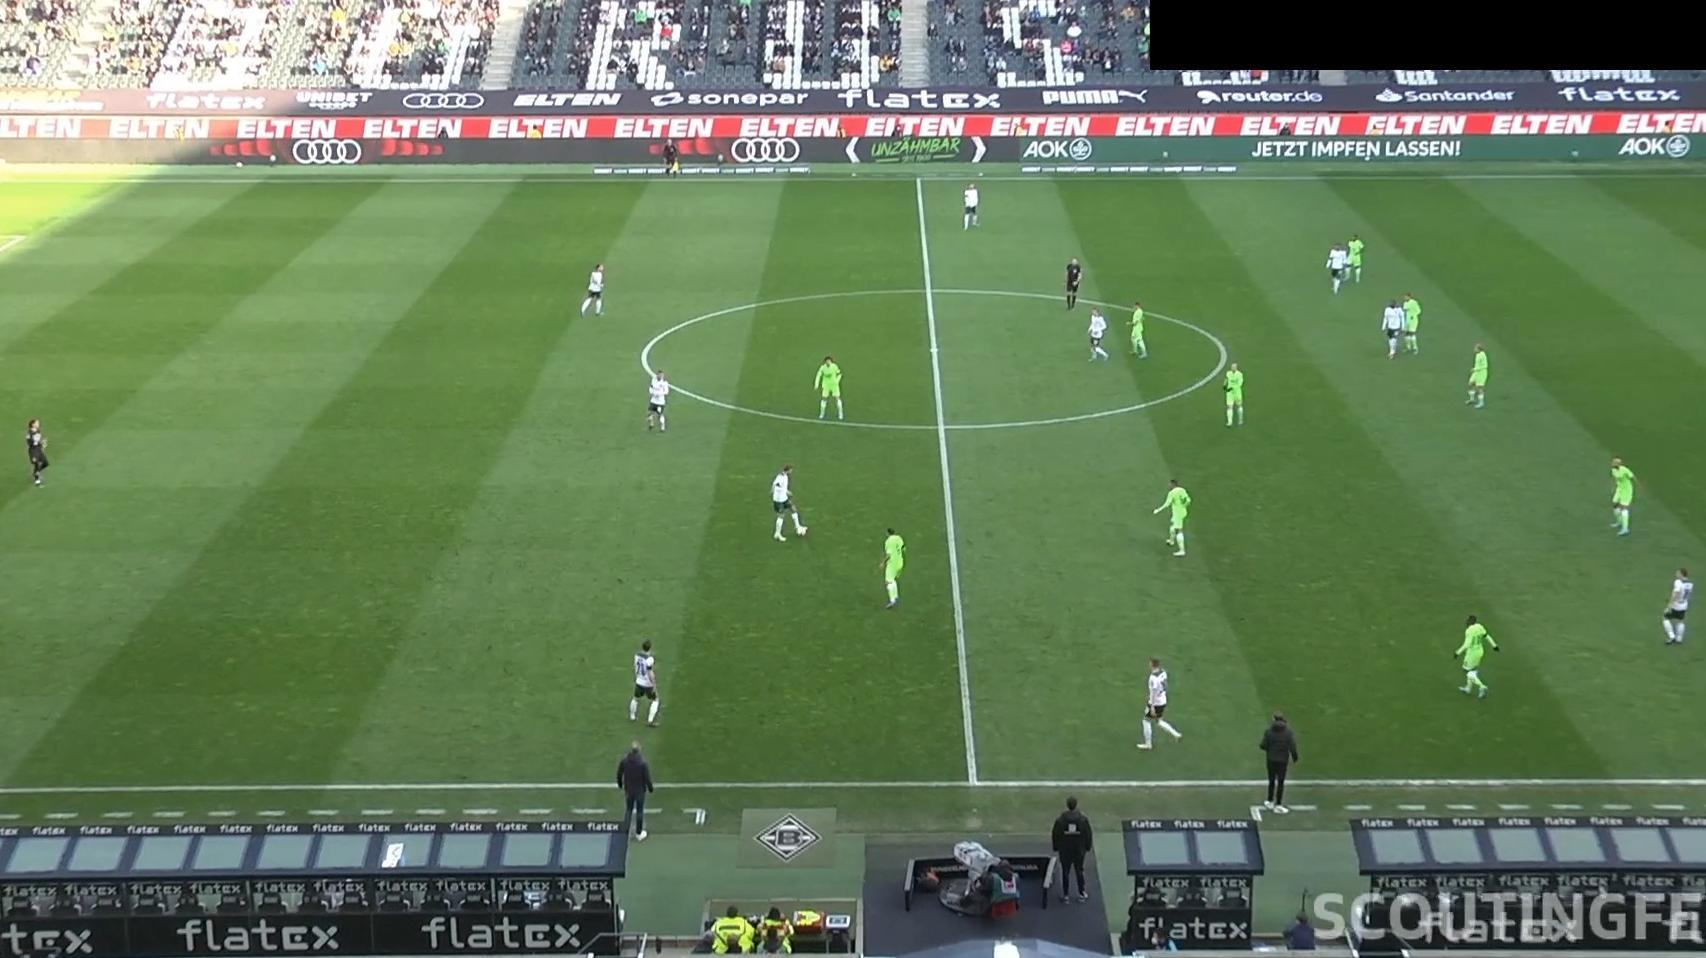ball: (795, 526, 806, 537)
